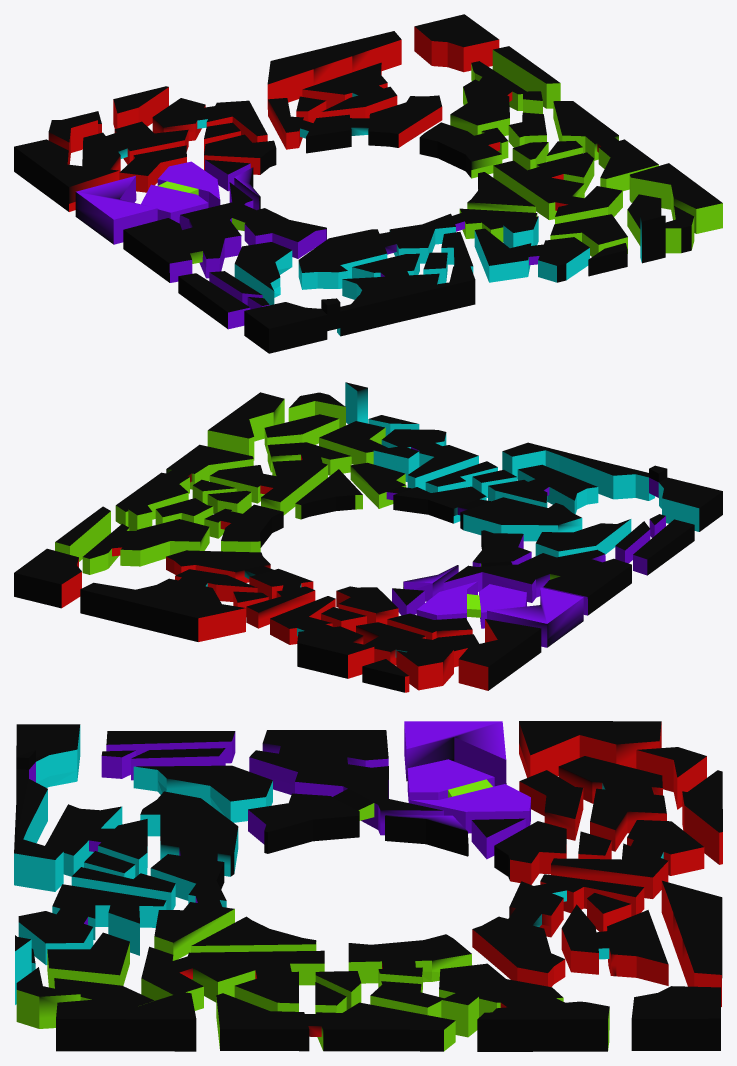
Rendered from Bottom_Floor_Detached.fbx.
The picture shows the model from 3 angles, top to bottom: view 1: azimuth 30°, elevation 25°; view 2: azimuth 150°, elevation 25°; view 3: azimuth 270°, elevation 25°; orthographic projection. The views are drawn at different scales.
Visible parts, largest first — view 1: Building_Bottom23, Building_Bottom32, Building_Bottom22, Building_Bottom02, Building_Bottom37, Building_Bottom03, Building_Bottom31, Building_Bottom24, Building_Bottom10, Building_Bottom16, Building_Bottom15, Building_Bottom42 (+30 smaller); view 2: Building_Bottom23, Building_Bottom22, Building_Bottom32, Building_Bottom03, Building_Bottom37, Building_Bottom02, Building_Bottom15, Building_Bottom10, Building_Bottom24, Building_Bottom27, Building_Bottom16, Building_Bottom31 (+32 smaller); view 3: Building_Bottom23, Building_Bottom22, Building_Bottom24, Building_Bottom37, Building_Bottom02, Building_Bottom32, Building_Bottom42, Building_Bottom10, Building_Bottom06, Building_Bottom08, Building_Bottom04, Building_Bottom16 (+33 smaller).
Boxes of the visible parts, <box> form: Building_Bottom23: <box>123,182,326,282</box>; Building_Bottom32: <box>244,265,475,353</box>; Building_Bottom22: <box>298,208,537,289</box>; Building_Bottom02: <box>268,95,442,153</box>; Building_Bottom37: <box>493,152,622,223</box>; Building_Bottom03: <box>267,31,401,109</box>; Building_Bottom31: <box>474,228,589,282</box>; Building_Bottom24: <box>553,101,658,191</box>; Building_Bottom10: <box>14,139,119,211</box>; Building_Bottom16: <box>414,14,499,72</box>; Building_Bottom15: <box>450,61,526,135</box>; Building_Bottom42: <box>629,163,722,233</box>; Building_Bottom23: <box>443,530,631,615</box>; Building_Bottom22: <box>350,462,582,541</box>; Building_Bottom32: <box>502,442,722,531</box>; Building_Bottom03: <box>80,582,245,641</box>; Building_Bottom37: <box>209,442,351,515</box>; Building_Bottom02: <box>166,550,315,628</box>; Building_Bottom15: <box>82,519,209,574</box>; Building_Bottom10: <box>458,619,541,690</box>; Building_Bottom24: <box>115,444,253,526</box>; Building_Bottom27: <box>488,464,598,514</box>; Building_Bottom16: <box>14,548,81,608</box>; Building_Bottom31: <box>381,429,478,490</box>; Building_Bottom23: <box>248,730,443,853</box>; Building_Bottom22: <box>140,791,238,960</box>; Building_Bottom24: <box>216,993,455,1051</box>; Building_Bottom37: <box>141,946,324,1011</box>; Building_Bottom02: <box>472,874,644,986</box>; Building_Bottom32: <box>14,724,80,891</box>; Building_Bottom42: <box>56,992,196,1051</box>; Building_Bottom10: <box>519,721,661,777</box>; Building_Bottom06: <box>551,820,704,898</box>; Building_Bottom08: <box>558,756,666,851</box>; Building_Bottom04: <box>561,904,668,985</box>; Building_Bottom16: <box>631,986,720,1050</box>.
Size of the model in its own units: 178 by 14.92 by 178.
